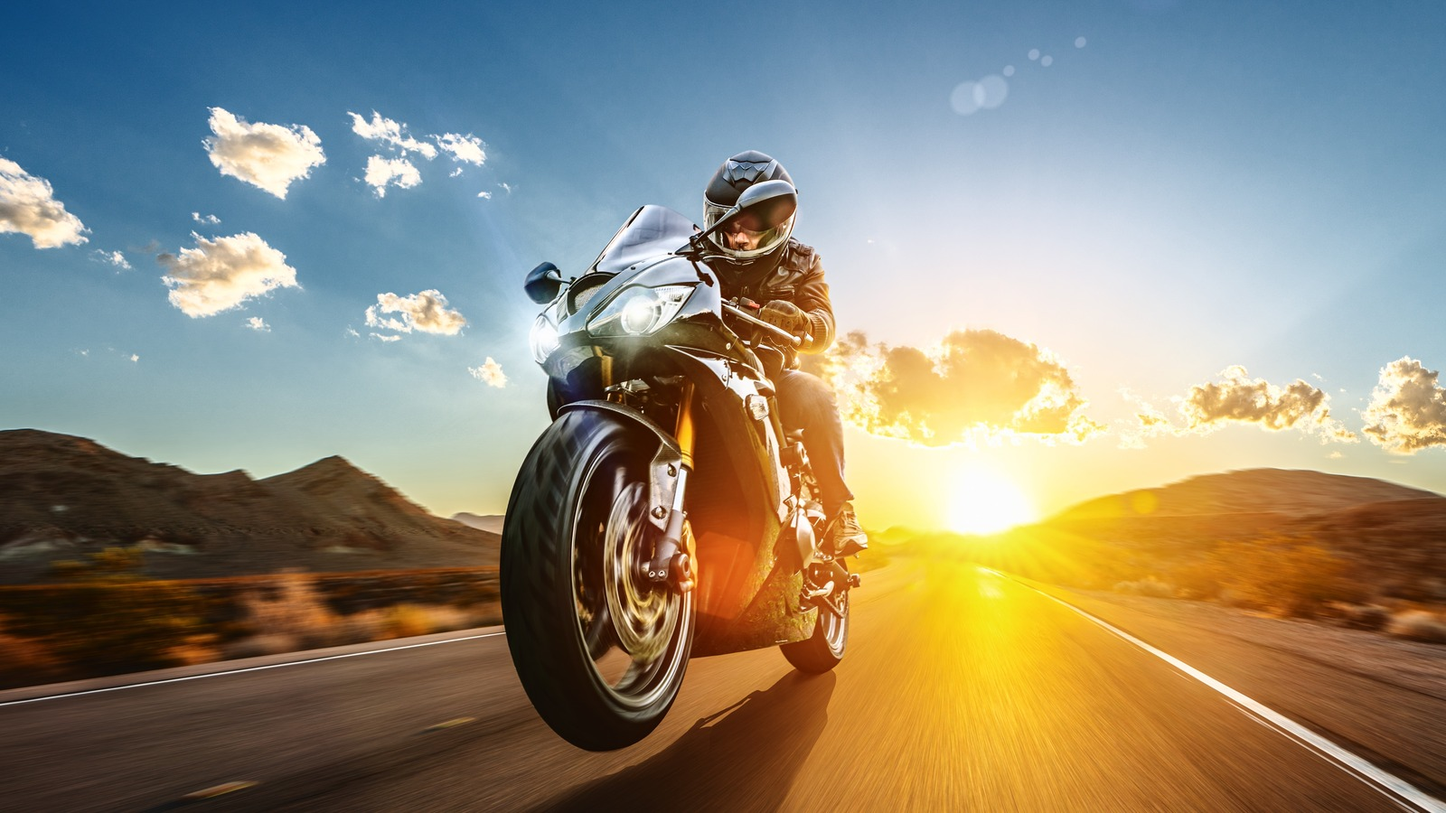Motorcycle: (487, 235, 915, 755)
